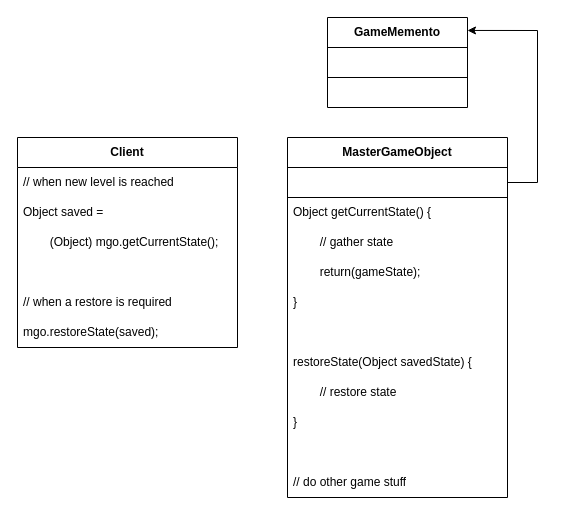
This 563x515 diagram has some shape labels left out. Each missing label, with the box of its shape:
gameState: (286, 166, 508, 198)
savedGameState: (326, 46, 468, 78)
